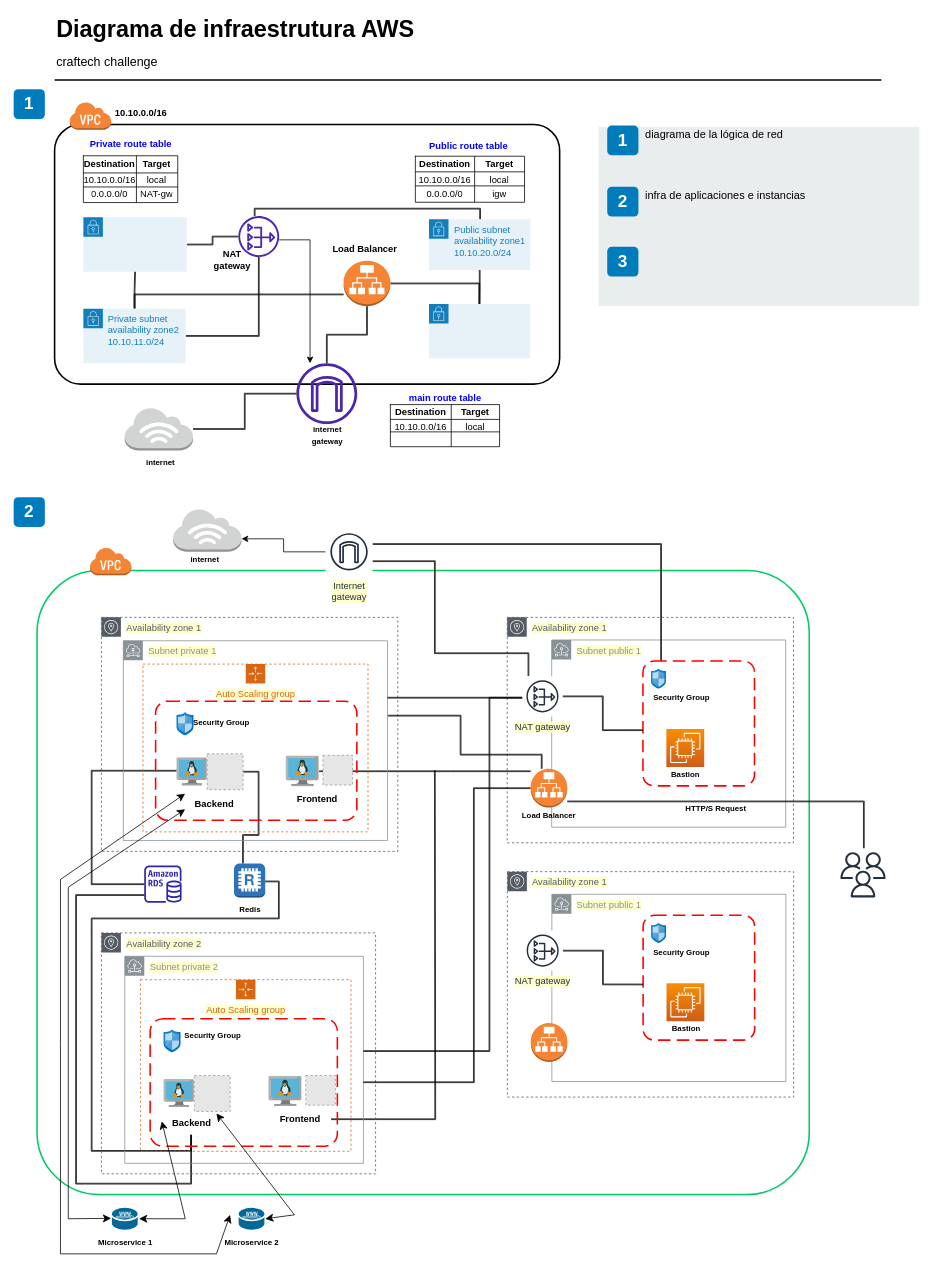
The diagram is 932 pixels wide and 1276 high, and some of its shapes have lost their labels. Grey dashed boxes stand in for pictures. Here are the shapes that lost their labels. From the top down, the centre of each, then its label:
At [135,244]: "Private subnet availability zone1 10.10.10.0/24".
At [479,331]: "Public subnet availability zone2 10.10.21.0/24".
